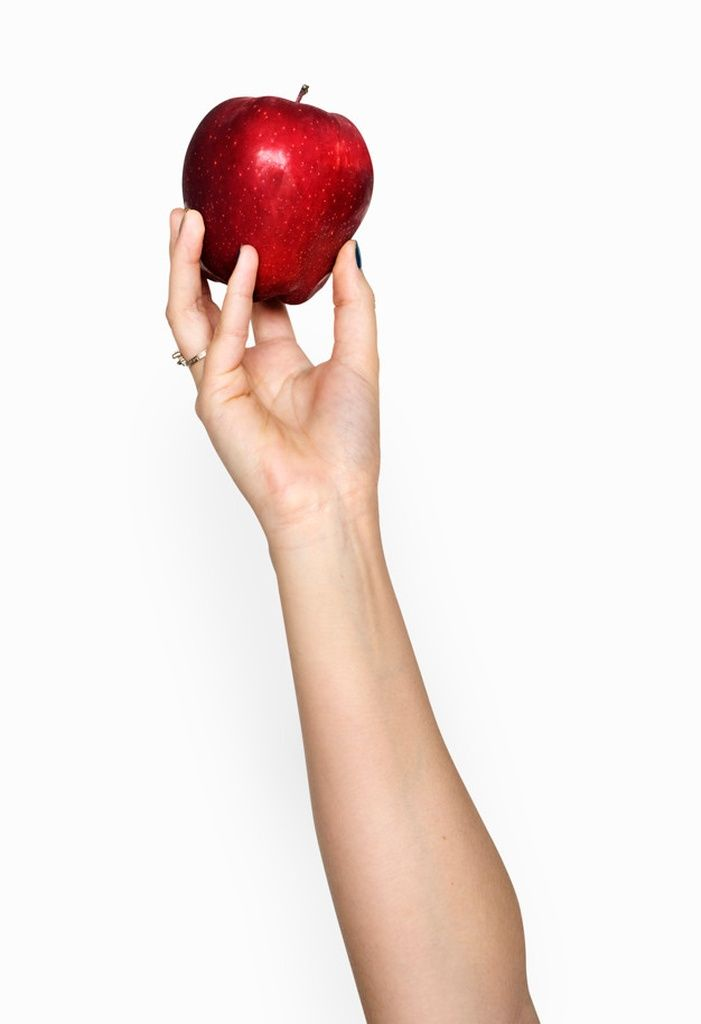apple: (179, 82, 376, 307)
